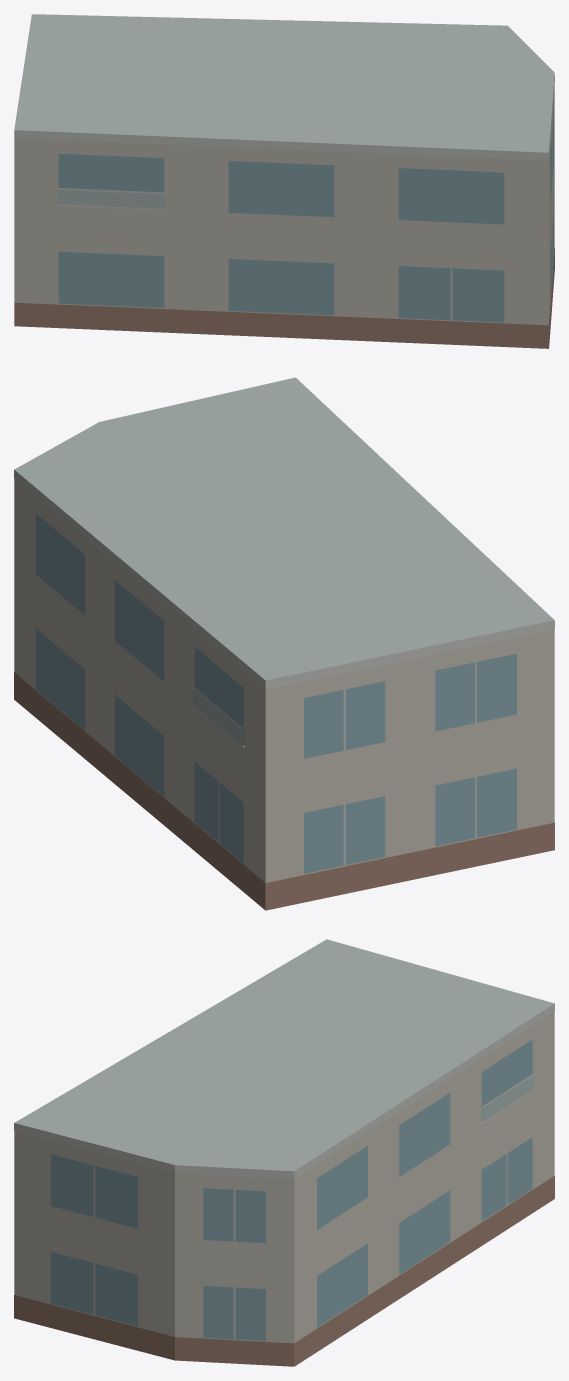
The model's file is survey-upis-32823210.glb.
The picture shows the model from 3 angles, top to bottom: view 1: azimuth 30°, elevation 25°; view 2: azimuth 150°, elevation 25°; view 3: azimuth 270°, elevation 25°; orthographic projection. The views are drawn at different scales.
Parts seen in each view (by area): view 1: survey-upis-32823210.tmp; view 2: survey-upis-32823210.tmp; view 3: survey-upis-32823210.tmp.
Part boxes in pixels (x1=…): survey-upis-32823210.tmp: x1=14, y1=14, x2=554, y2=348; survey-upis-32823210.tmp: x1=14, y1=377, x2=554, y2=910; survey-upis-32823210.tmp: x1=14, y1=939, x2=554, y2=1366.
Bounding box in the file's own units: 15.55 × 6.1 × 15.31.
